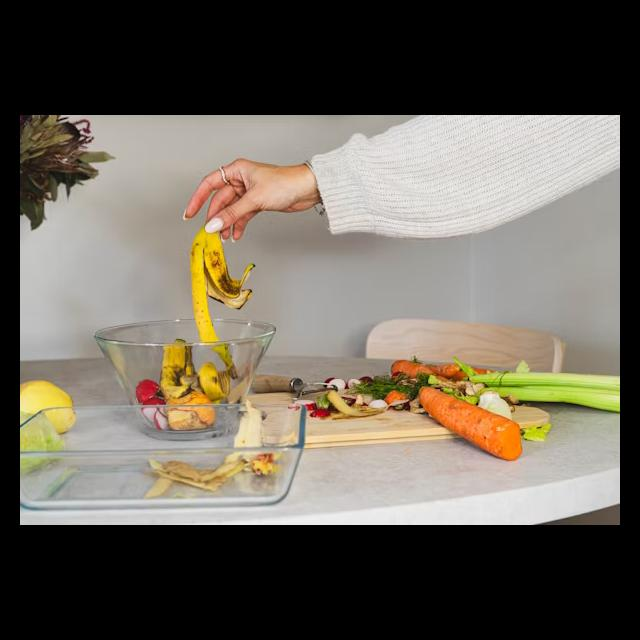food_waste: (176, 224, 270, 344), (415, 381, 528, 465), (157, 327, 226, 408), (328, 390, 402, 418), (304, 397, 382, 416), (395, 355, 437, 387)
